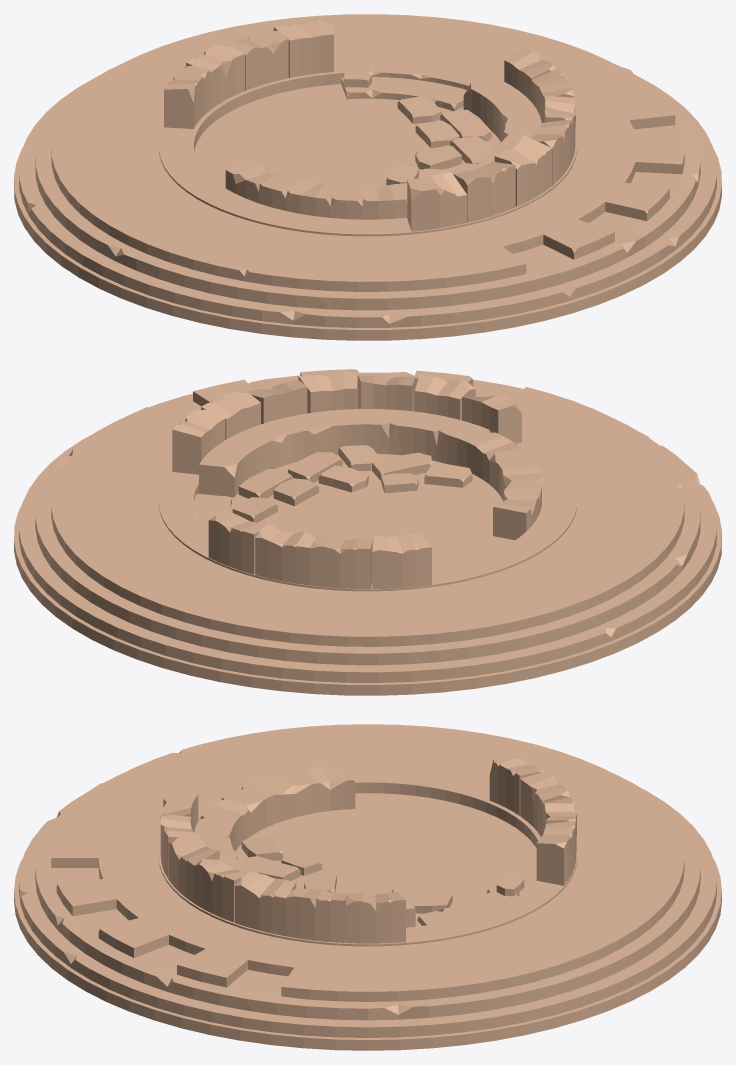
Rendered from ShrineBase.fbx.
3 views of the same model, one above another, from view 1: azimuth 30°, elevation 25°; view 2: azimuth 150°, elevation 25°; view 3: azimuth 270°, elevation 25° (orthographic).
Parts seen in each view (by area): view 1: base; view 2: base; view 3: base.
Boxes of the visible parts, bbox=[...] form: base: bbox=[14, 14, 721, 340]; base: bbox=[14, 369, 721, 695]; base: bbox=[14, 724, 721, 1050].
Size of the model in its own units: 11.09 by 1.57 by 11.09.
